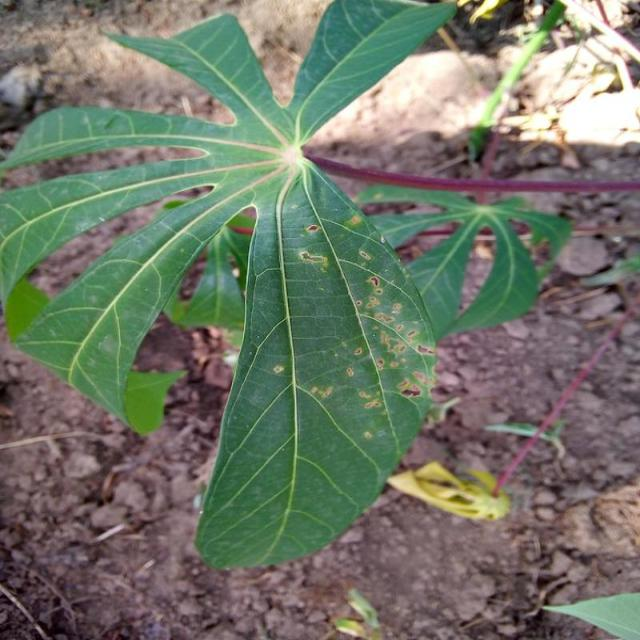cassava leaf: (1, 0, 570, 570), (193, 153, 438, 570)
